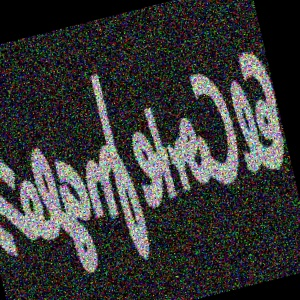corte_ingles: (252, 4, 265, 52)
